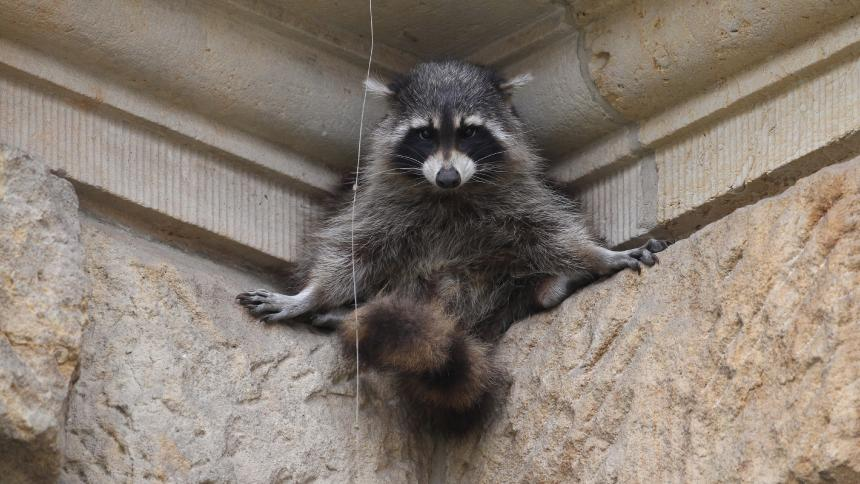raccoon: (290, 50, 674, 413)
